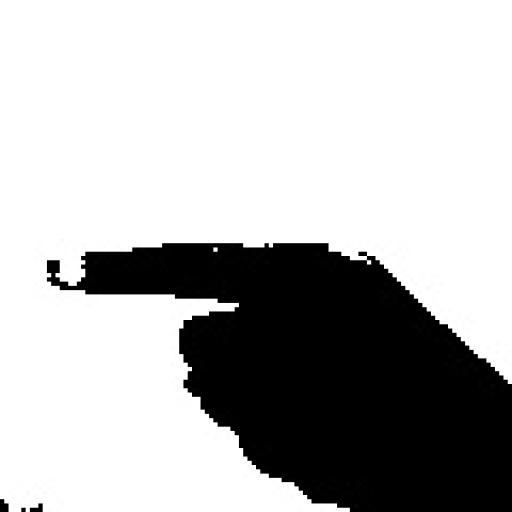index_left: (45, 238, 512, 444)
